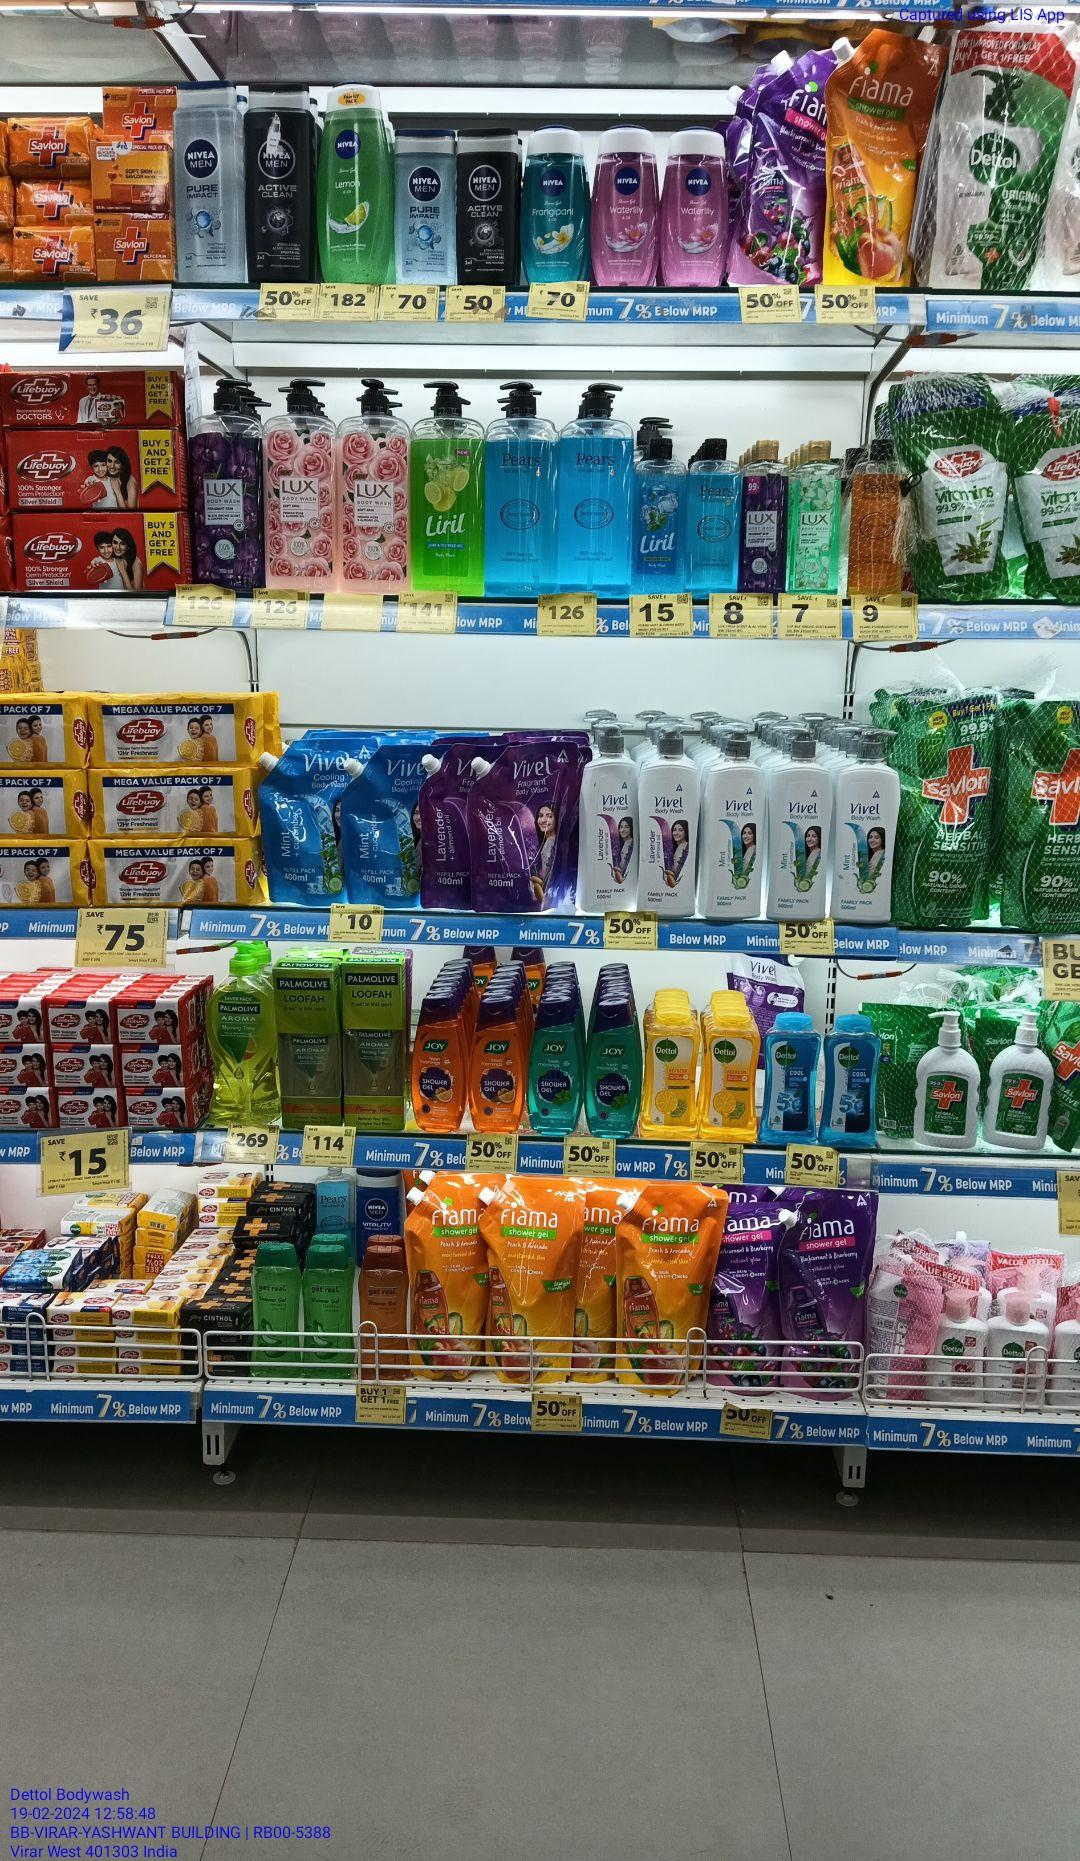Dettol_Bodywash_Cool: (765, 1013, 828, 1143), (824, 1014, 877, 1148)
Dettol_Bodywash_Refresh: (702, 1006, 762, 1134), (644, 1006, 701, 1137)
Joy_Shower_Gel_Mandarin_and_Lemongrass_250ML: (413, 991, 468, 1134), (469, 997, 525, 1132)
Joy_Shower_Gel_Mint_and_Eucalyptus_250ML: (530, 997, 589, 1137), (589, 995, 642, 1132)
Lux_Black_Orchid_Scent_and_Juniper_Oil_Body_Wash_245ML: (741, 436, 797, 591)
Lux_Body_Wash_Skin_Detox_Freesia_Scent_and_Alove_Vera_245ML: (795, 442, 845, 587)
Nivea_Shower_Gel_Frangipani_and_Oil_250ML: (521, 130, 595, 283)
Nivea_Shower_Gel_Waterlily_and_Oil_250ML: (594, 132, 663, 287), (662, 130, 728, 284)
Pears_Pure_Glycerin_and_Mint_Extracts_Body_Wash_250ML: (687, 437, 739, 595)
